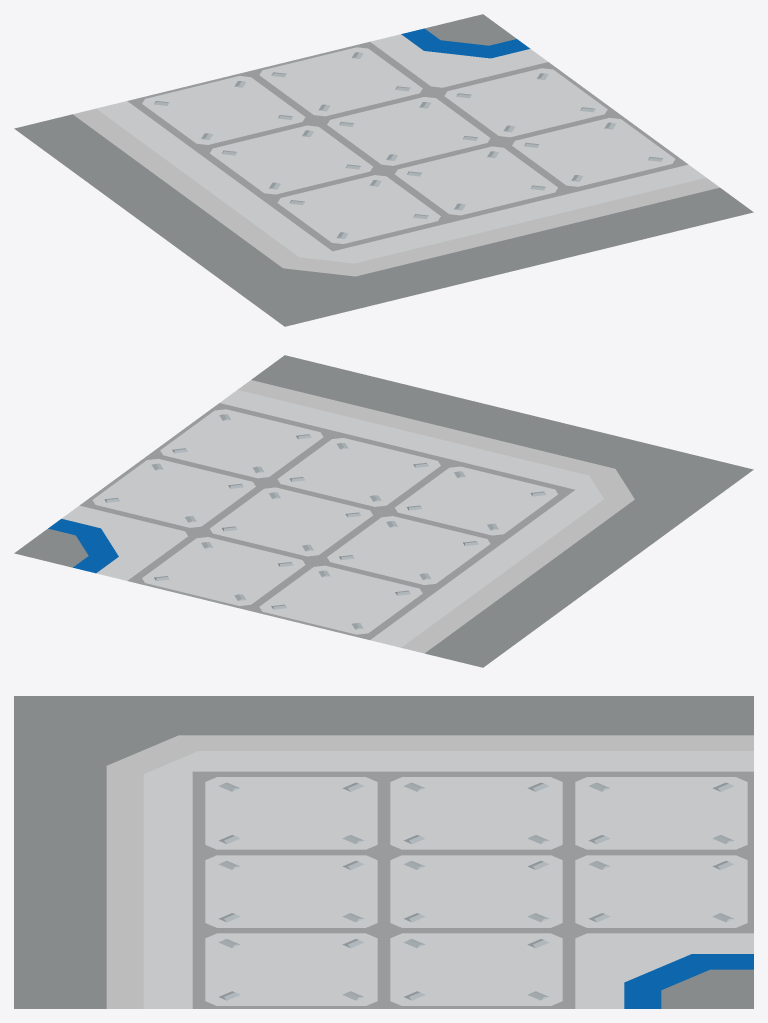
The model's file is Floor_type_A_005.fbx.
The picture shows the model from 3 angles, top to bottom: view 1: azimuth 30°, elevation 25°; view 2: azimuth 150°, elevation 25°; view 3: azimuth 270°, elevation 25°; orthographic projection. The views are drawn at different scales.
Visible parts, largest first — view 1: Floor_type_A_005; view 2: Floor_type_A_005; view 3: Floor_type_A_005.
Part boxes in pixels (x1,y1,x2,y2): Floor_type_A_005: [14, 14, 753, 326]; Floor_type_A_005: [14, 355, 753, 667]; Floor_type_A_005: [14, 696, 753, 1008].
Bounding box in the file's own units: 400 × 400 × 0.8.
